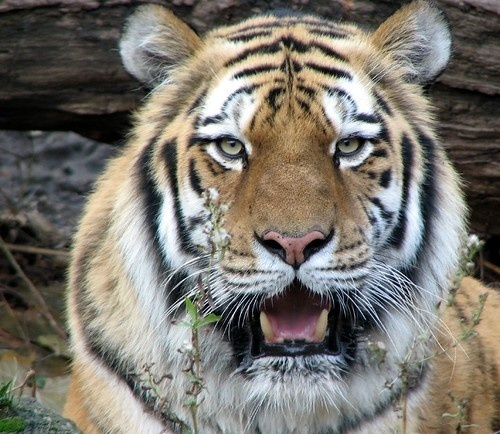tigre: (60, 1, 500, 432)
